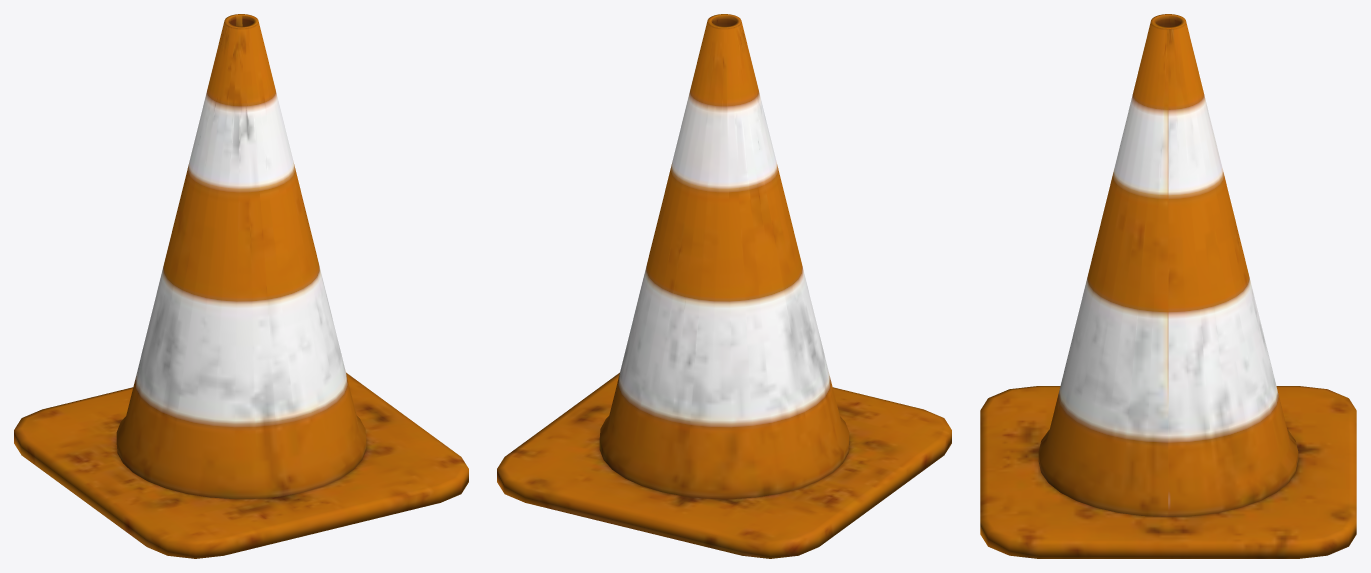
The model's file is Traffic_Cone.glb.
3 renders of one model, left to right at view 1: azimuth 30°, elevation 25°; view 2: azimuth 150°, elevation 25°; view 3: azimuth 270°, elevation 25°, orthographic. The views are drawn at different scales.
Visible parts, largest first — view 1: Boole; view 2: Boole; view 3: Boole.
Part boxes in pixels (left/top/right/bottom): Boole: left=14, top=14, right=468, bottom=558; Boole: left=497, top=14, right=951, bottom=558; Boole: left=980, top=14, right=1356, bottom=558.
Bounding box in the file's own units: 0.333 × 0.45 × 0.333.
Materials: 1 (1 with a texture image).
